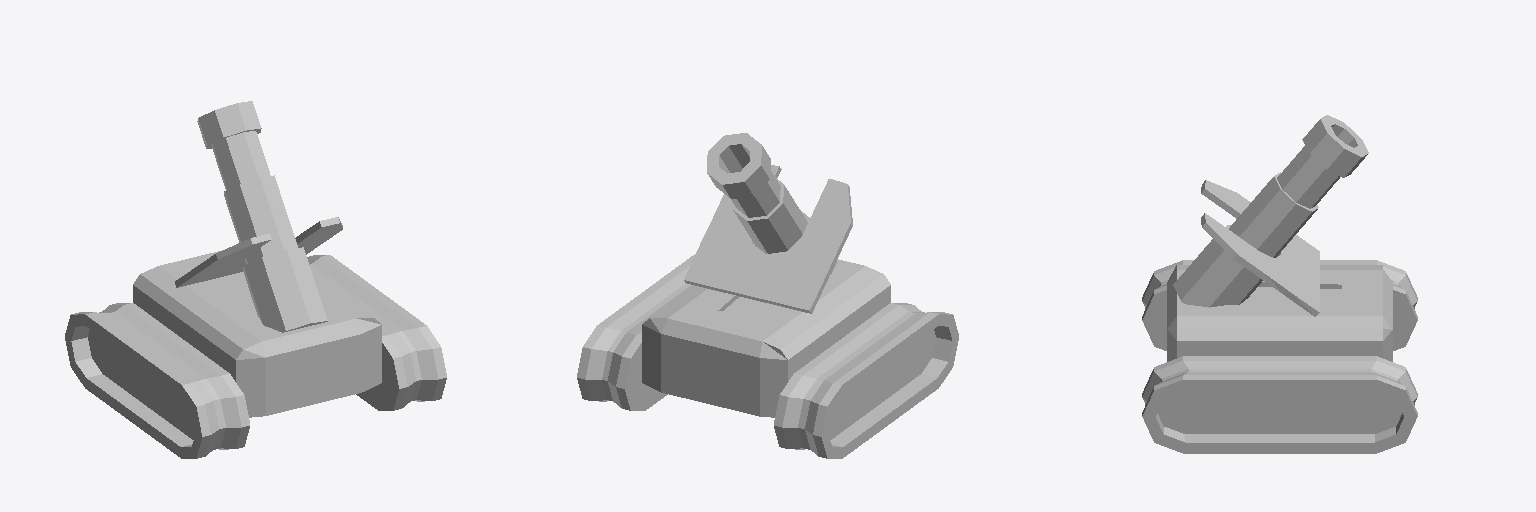
File: Mortar.obj
3 views of the same model, side by side, from view 1: azimuth 30°, elevation 25°; view 2: azimuth 150°, elevation 25°; view 3: azimuth 270°, elevation 25° (orthographic).
Parts seen in each view (by area): view 1: Frame, Tread2, Tread1, Gun1, Gun3, Gun2, Shield; view 2: Frame, Tread2, Shield, Tread1, Gun3, Gun2; view 3: Tread1, Frame, Shield, Gun3, Tread2, Gun1, Gun2.
Boxes of the visible parts, <box> form: Frame: <box>133,250,381,417</box>; Tread2: <box>65,303,249,458</box>; Tread1: <box>307,255,446,410</box>; Gun1: <box>243,247,327,332</box>; Gun3: <box>197,101,270,189</box>; Gun2: <box>224,175,297,264</box>; Shield: <box>175,217,342,287</box>; Frame: <box>642,259,890,417</box>; Tread2: <box>774,303,958,458</box>; Shield: <box>684,165,852,313</box>; Tread1: <box>577,255,694,410</box>; Gun3: <box>707,133,780,217</box>; Gun2: <box>733,177,807,253</box>; Tread1: <box>1142,356,1417,453</box>; Frame: <box>1167,265,1392,361</box>; Shield: <box>1201,180,1319,316</box>; Gun3: <box>1277,115,1368,208</box>; Tread2: <box>1142,260,1417,350</box>; Gun1: <box>1173,225,1262,307</box>; Gun2: <box>1229,172,1318,257</box>.
Bounding box in the file's own units: 1.44 × 1.55 × 1.41.